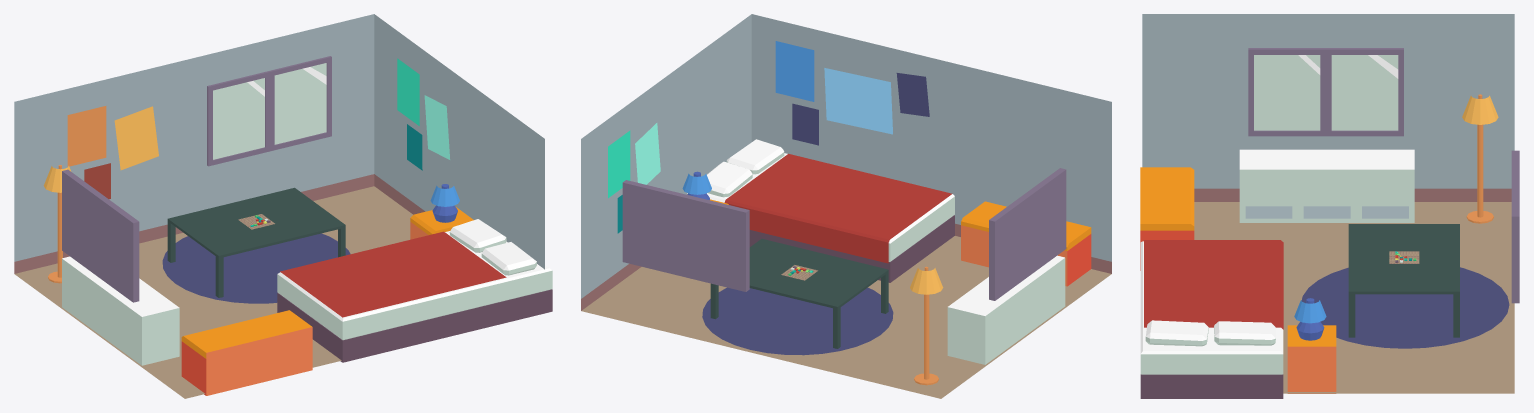
The model's file is bedroom_scene.glb.
3 renders of one model, left to right at view 1: azimuth 30°, elevation 25°; view 2: azimuth 150°, elevation 25°; view 3: azimuth 270°, elevation 25°, orthographic. The views are drawn at different scales.
Visible parts, largest first — view 1: Cube.034; view 2: Cube.034; view 3: Cube.034, bedroom.
Boxes of the visible parts, <box> form: Cube.034: <box>14,14,552,398</box>; Cube.034: <box>581,14,1111,398</box>; Cube.034: <box>1140,14,1519,398</box>; bedroom: <box>1389,251,1419,263</box>.
Bounding box in the file's own units: 310 × 140 × 252.
Materials: 1 (1 with a texture image).
